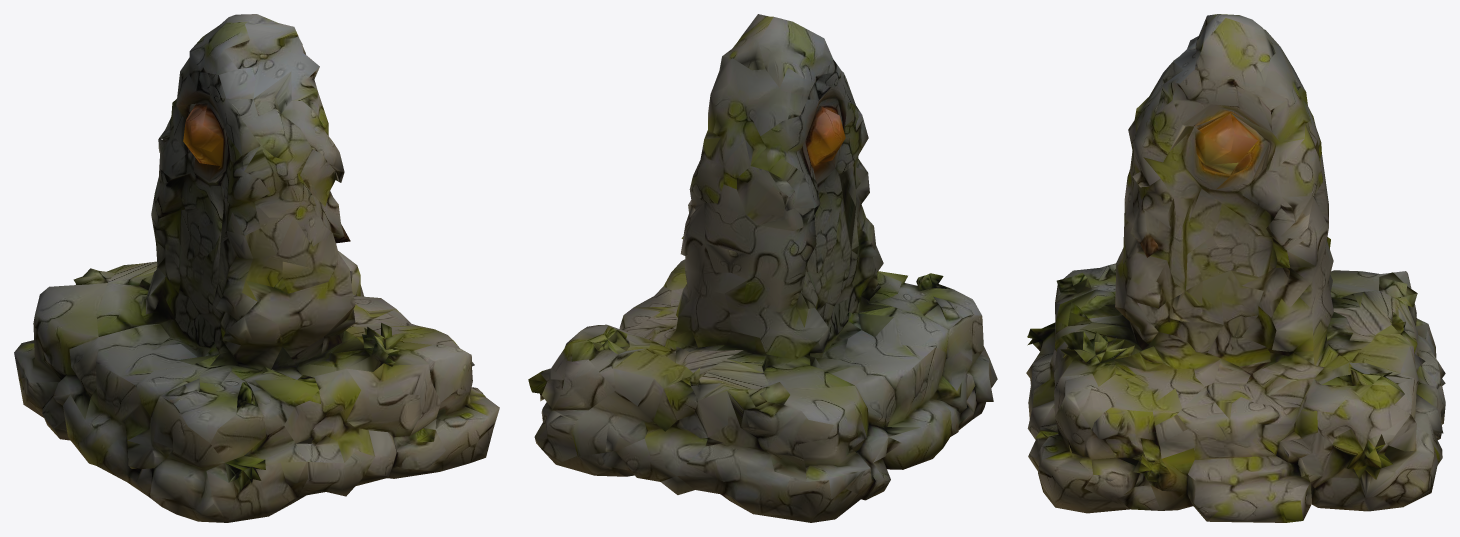
The model's file is shrine.glb.
The picture shows the model from 3 angles, left to right: view 1: azimuth 30°, elevation 25°; view 2: azimuth 150°, elevation 25°; view 3: azimuth 270°, elevation 25°; orthographic projection. The views are drawn at different scales.
Parts seen in each view (by area): view 1: tripo_node_878f9868-7f60-422d-84f7-e6c2c7ee5400; view 2: tripo_node_878f9868-7f60-422d-84f7-e6c2c7ee5400; view 3: tripo_node_878f9868-7f60-422d-84f7-e6c2c7ee5400.
Boxes of the visible parts, x1,y1,x2,y2 form: tripo_node_878f9868-7f60-422d-84f7-e6c2c7ee5400: (14,14,499,522); tripo_node_878f9868-7f60-422d-84f7-e6c2c7ee5400: (528,14,997,522); tripo_node_878f9868-7f60-422d-84f7-e6c2c7ee5400: (1026,14,1445,522).
Size of the model in its own units: 0.8946 by 0.994 by 0.8994.
Materials: 1 (1 with a texture image).
